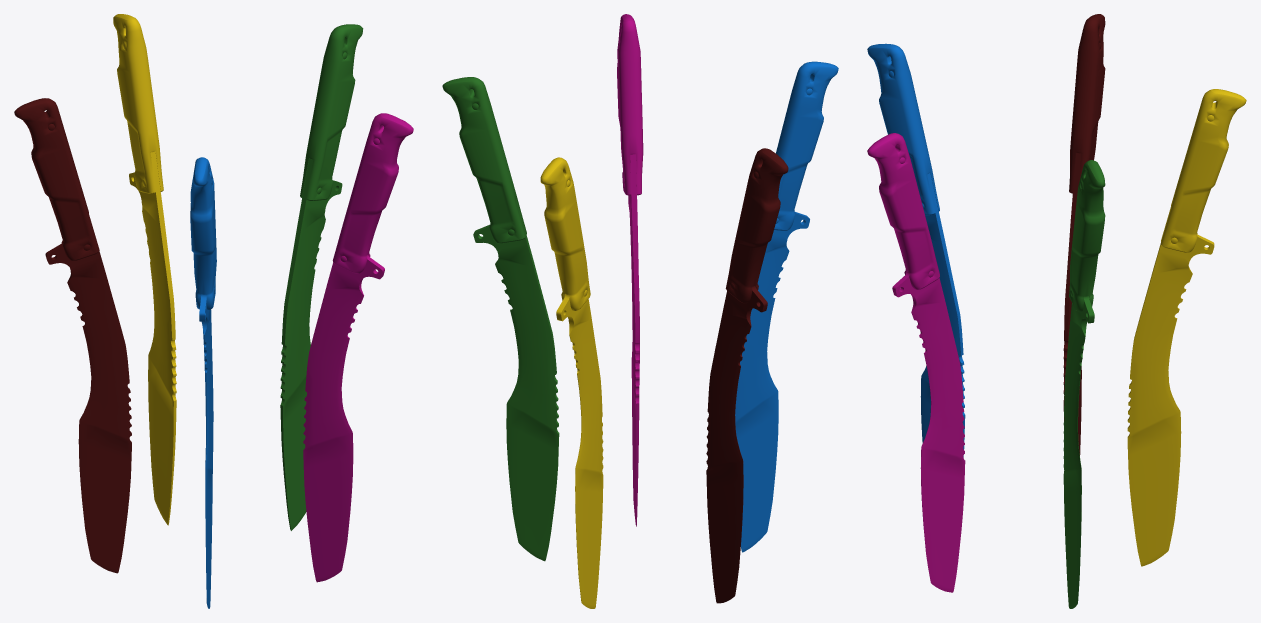
The picture shows the model from 3 angles, left to right: view 1: azimuth 30°, elevation 25°; view 2: azimuth 150°, elevation 25°; view 3: azimuth 270°, elevation 25°; orthographic projection.
Parts seen in each view (by area): view 1: Kukri_blade_old, Kukri_blade_leather_grip, Kukri_blade_classic_black, Kukri_blade_crazy_toxic_color, Kukri_blade_modern_camo; view 2: Kukri_blade_classic_black, Kukri_blade_old, Kukri_blade_modern_camo, Kukri_blade_crazy_toxic_color, Kukri_blade_leather_grip; view 3: Kukri_blade_crazy_toxic_color, Kukri_blade_leather_grip, Kukri_blade_classic_black, Kukri_blade_modern_camo, Kukri_blade_old.
Boxes of the visible parts, x1,y1,x2,y2 form: Kukri_blade_old: [14, 98, 131, 573]; Kukri_blade_leather_grip: [303, 113, 413, 582]; Kukri_blade_classic_black: [280, 24, 363, 530]; Kukri_blade_crazy_toxic_color: [113, 14, 176, 525]; Kukri_blade_modern_camo: [190, 157, 216, 608]; Kukri_blade_classic_black: [442, 77, 559, 561]; Kukri_blade_old: [706, 148, 788, 603]; Kukri_blade_modern_camo: [735, 61, 838, 552]; Kukri_blade_crazy_toxic_color: [540, 157, 603, 608]; Kukri_blade_leather_grip: [617, 14, 643, 526]; Kukri_blade_crazy_toxic_color: [1127, 89, 1246, 566]; Kukri_blade_leather_grip: [867, 133, 965, 592]; Kukri_blade_classic_black: [1063, 160, 1105, 608]; Kukri_blade_modern_camo: [867, 43, 965, 456]; Kukri_blade_old: [1063, 14, 1105, 455].
Bounding box in the file's own units: 36.9 × 48.77 × 35.15.
